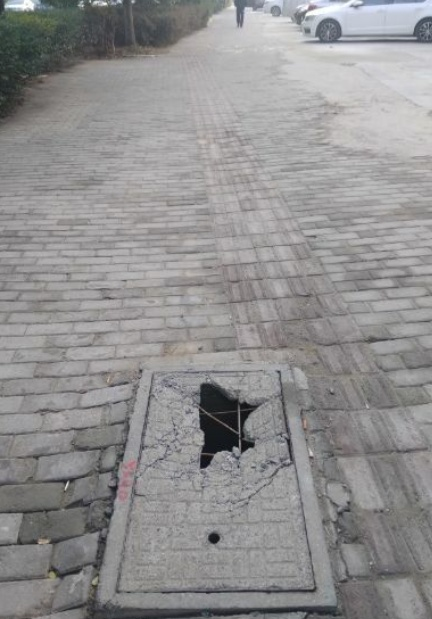broke: (96, 360, 340, 610)
